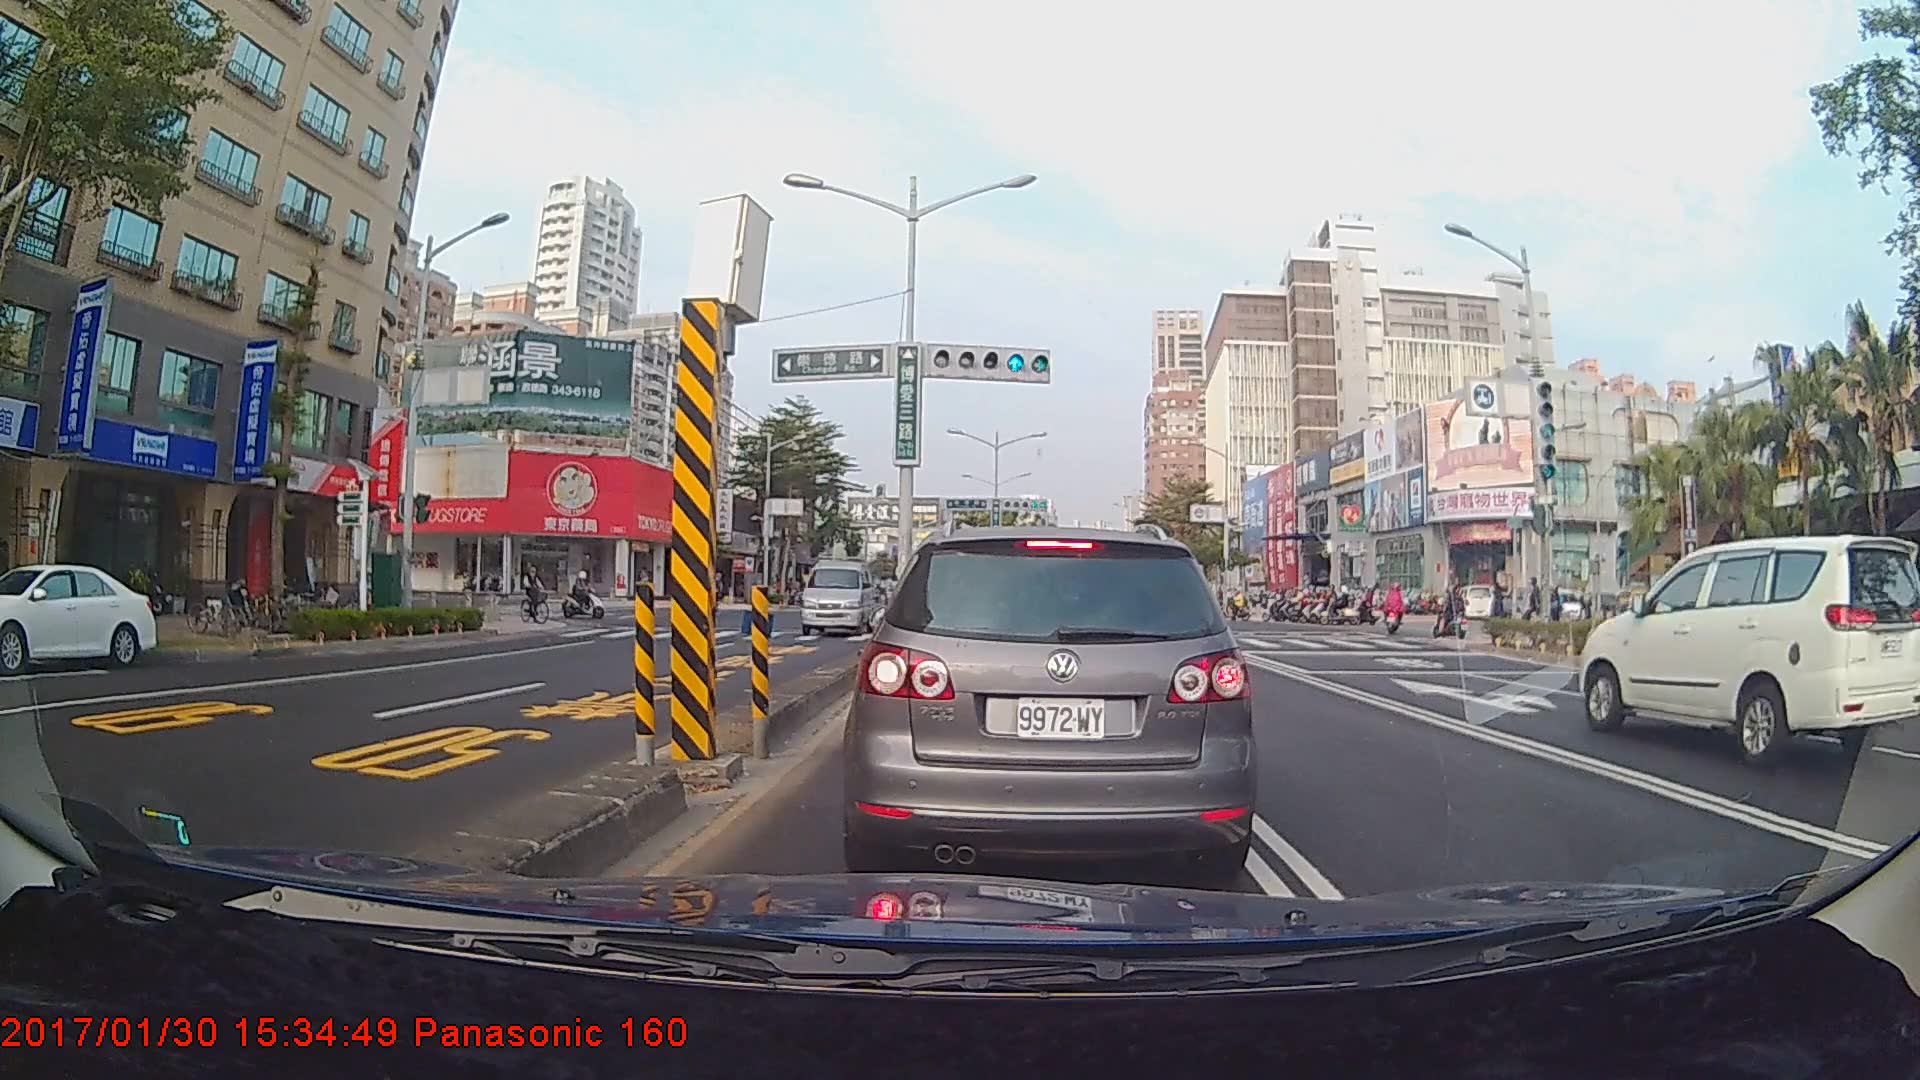pedestrian: (1490, 579, 1513, 637)
rider: (563, 568, 615, 625), (518, 559, 558, 629), (1436, 582, 1473, 646), (1384, 580, 1410, 640)
vehicle: (853, 519, 1252, 882), (1579, 533, 1920, 769), (0, 561, 159, 671), (800, 548, 879, 635)
